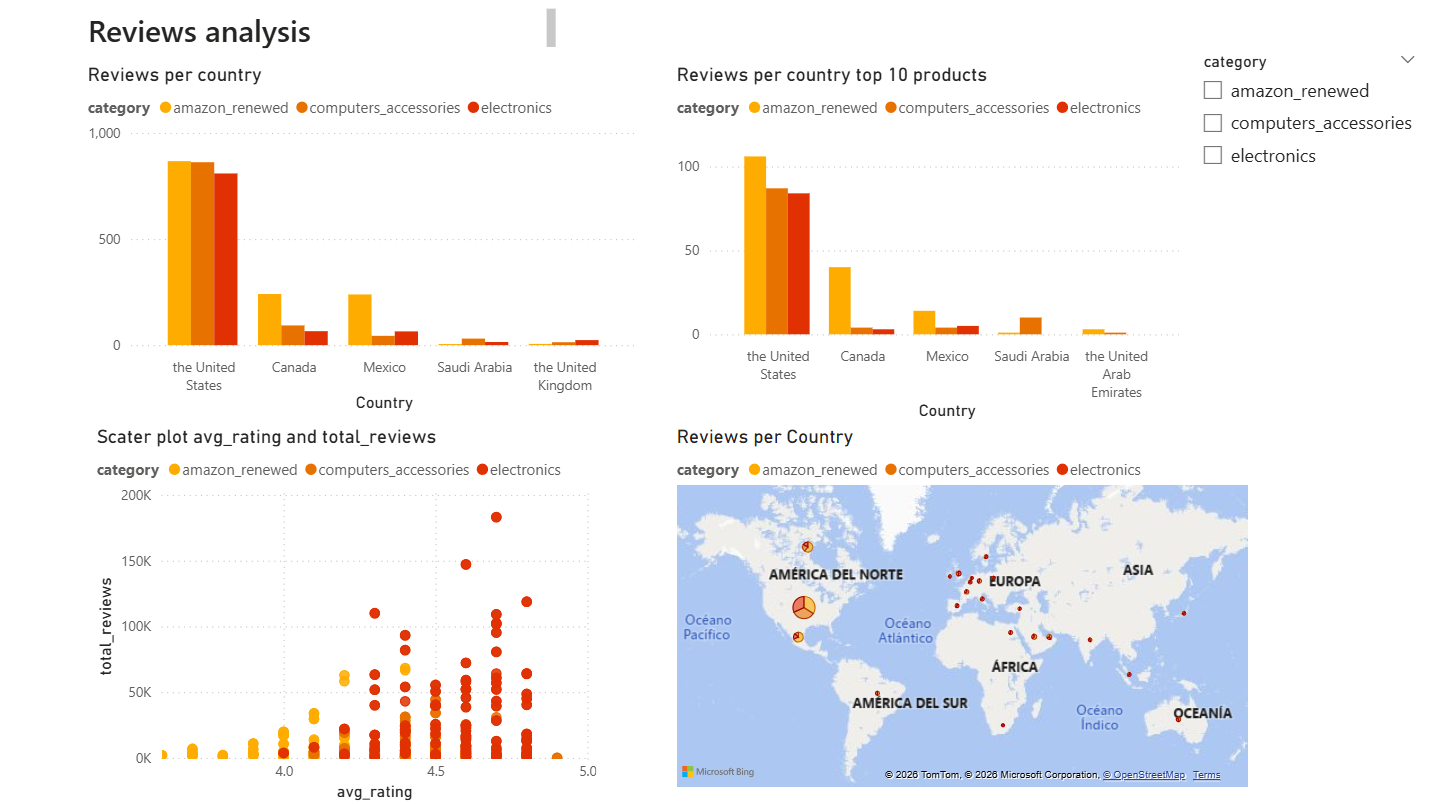

Layout of this report page (visuals, bound fields, positions):
{"tool":"powerbi","page":{"name":"Reviews","canvas":[1280,720],"ordinal":2},"visuals":[{"type":"clusteredColumnChart","title":"Reviews per country","fields":{"Category":["raw reviews.country"],"Y":["CountNonNull(raw reviews.asin)"],"Series":["core products.category"]},"box":[76.4,60,497.3,314.5],"z":0},{"type":"clusteredColumnChart","title":"Reviews per country top 10 products","fields":{"Y":["CountNonNull(analytics top_ranked_products_reviews.asin)"],"Series":["analytics top_ranked_products_reviews.category"],"Category":["analytics top_ranked_products_reviews.country"]},"box":[598.2,60,460,320.9],"z":1000},{"type":"scatterChart","title":"Scater plot avg_rating and total_reviews","fields":{"X":["analytics product_snapshot.avg_rating"],"Y":["analytics product_snapshot.total_reviews"],"Series":["analytics product_snapshot.category"]},"box":[84.6,381.3,453.3,338.5],"z":2000},{"type":"map","title":"Reviews per Country","fields":{"Category":["raw reviews.country"],"Size":["CountNonNull(raw reviews.asin)"],"Series":["core products.category"]},"box":[598.2,381.3,517.4,326.8],"z":3000},{"type":"slicer","fields":{"Values":["core products.category"]},"box":[1058.2,45.7,212,202.3],"z":3001},{"type":"textbox","box":[76.4,7.3,425.5,45.5],"z":3002}]}

Visuals, with their boxes in screenshot pixels (x1, y1, x2, y2), scaled from the page's 1280x720 canvas onto the 1437x804 screenshot:
"Reviews per country" clusteredColumnChart: [x1=86, y1=67, x2=644, y2=418]
"Reviews per country top 10 products" clusteredColumnChart: [x1=672, y1=67, x2=1188, y2=425]
"Scater plot avg_rating and total_reviews" scatterChart: [x1=95, y1=426, x2=604, y2=803]
"Reviews per Country" map: [x1=672, y1=426, x2=1252, y2=791]
slicer - core products.category: [x1=1188, y1=51, x2=1426, y2=277]
textbox: [x1=86, y1=8, x2=563, y2=59]
